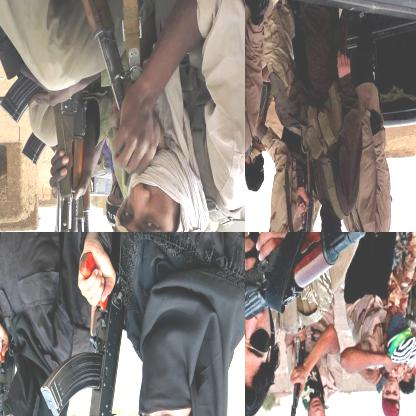rifle: (0, 77, 101, 231), (38, 253, 134, 415), (245, 232, 415, 322), (284, 324, 311, 415), (284, 191, 317, 231)
